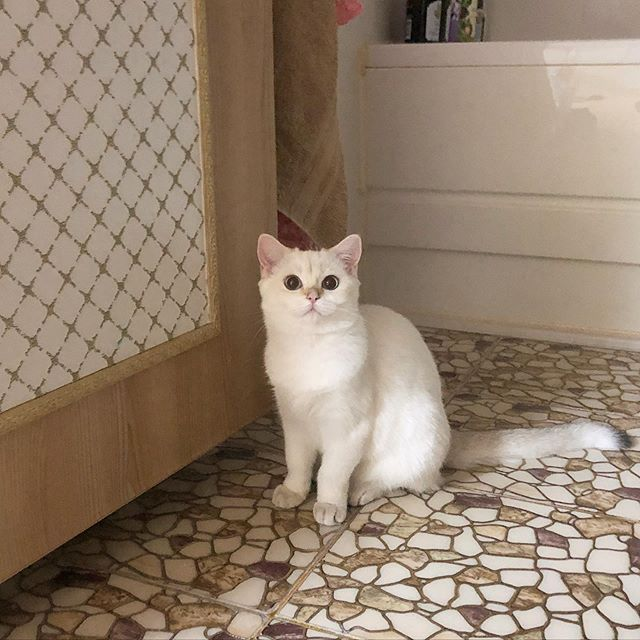cat: (247, 227, 377, 337)
